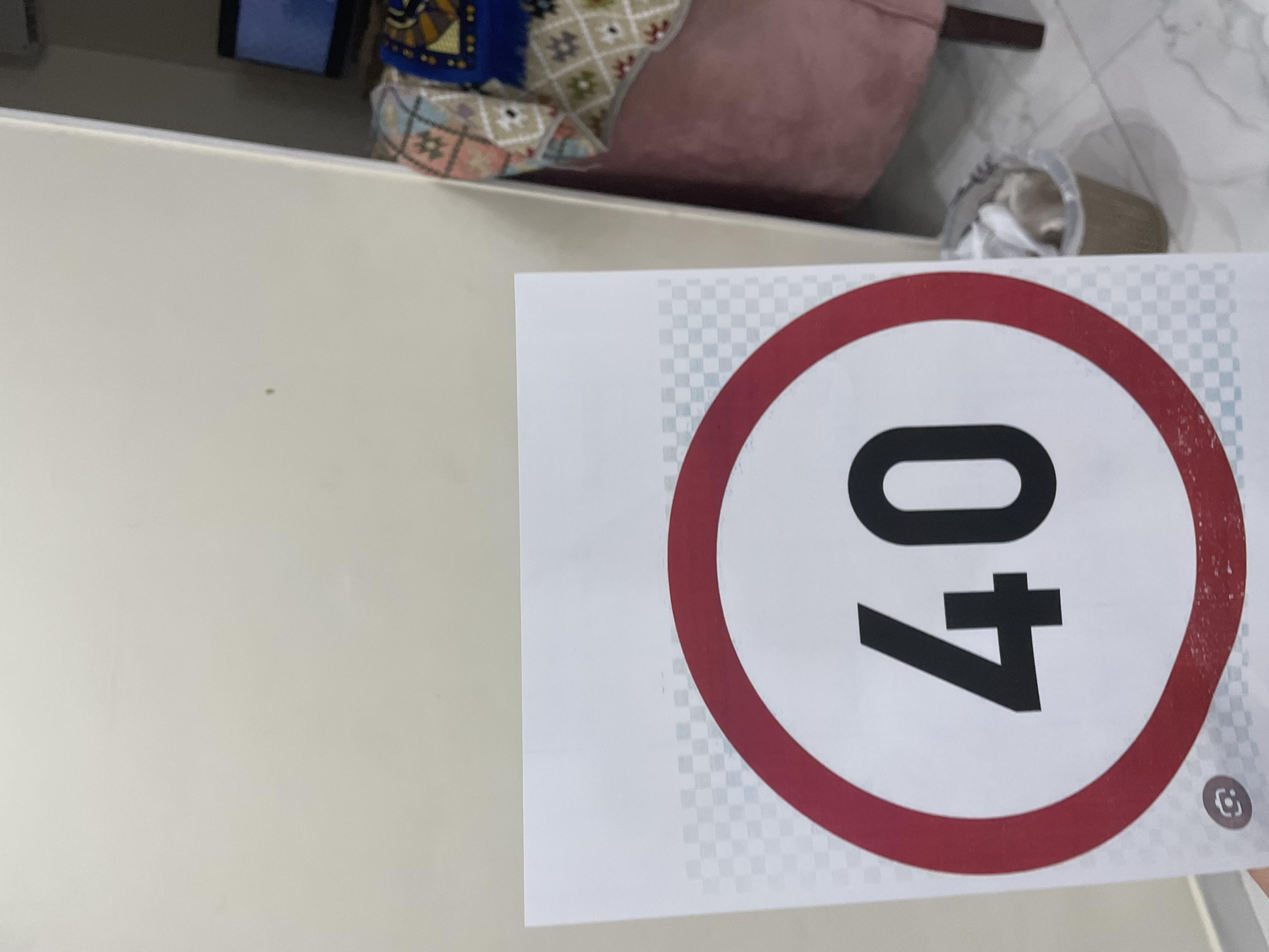40-Speed: (97, 475, 919, 942)
